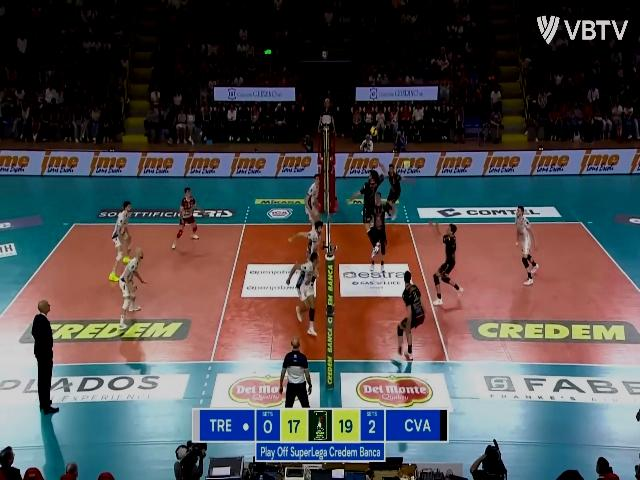volleyball court: (1, 219, 638, 365)
